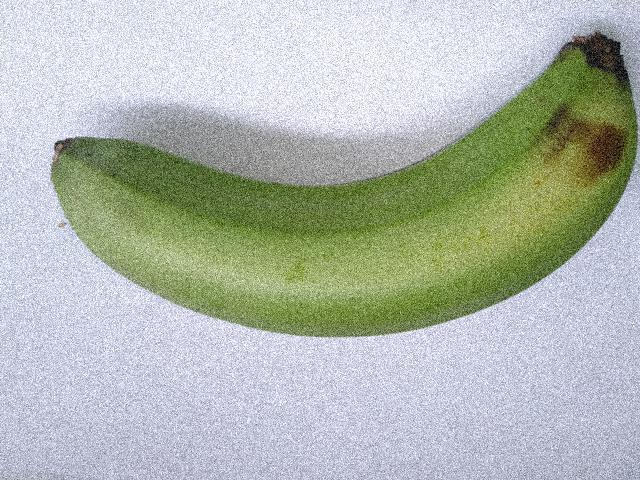freshunripe: (25, 21, 639, 346)
